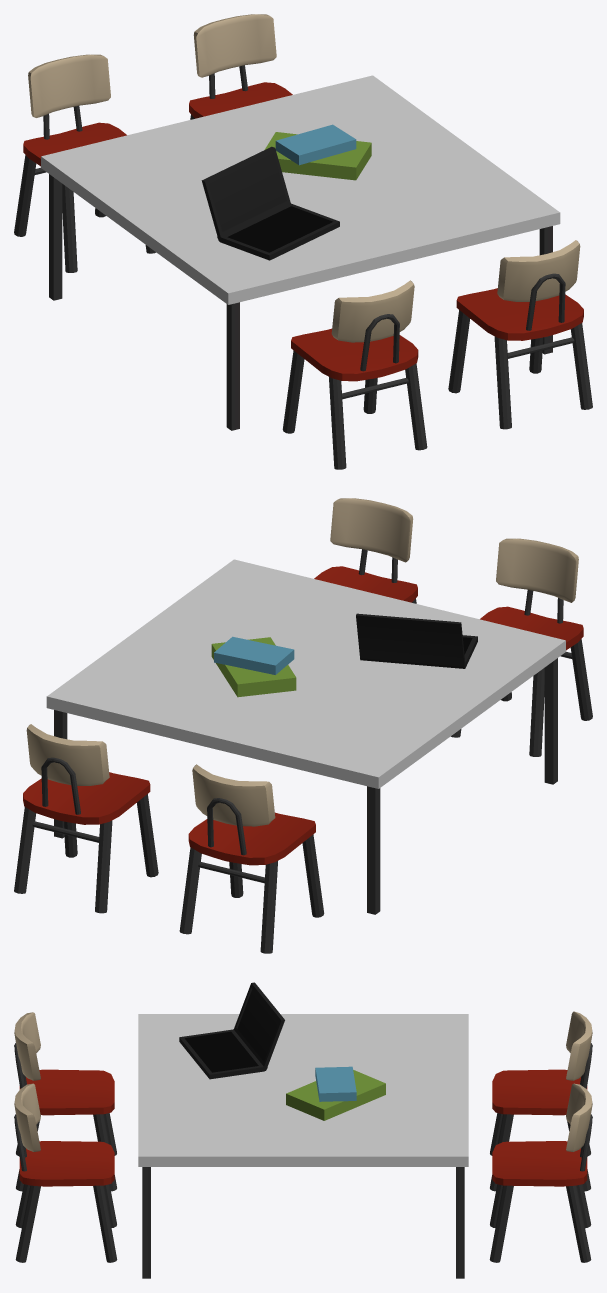
3 renders of one model, top to bottom at view 1: azimuth 30°, elevation 25°; view 2: azimuth 150°, elevation 25°; view 3: azimuth 270°, elevation 25°, orthographic. The views are drawn at different scales.
Parts seen in each view (by area): view 1: 4er Tisch A.003; view 2: 4er Tisch A.003; view 3: 4er Tisch A.003.
Part boxes in pixels (left/top/right/bottom): 4er Tisch A.003: left=14, top=14, right=592, bottom=469; 4er Tisch A.003: left=14, top=498, right=592, bottom=953; 4er Tisch A.003: left=14, top=982, right=592, bottom=1278.
Bounding box in the file's own units: 2.23 × 1.26 × 3.83.
Materials: 1 (1 with a texture image).
